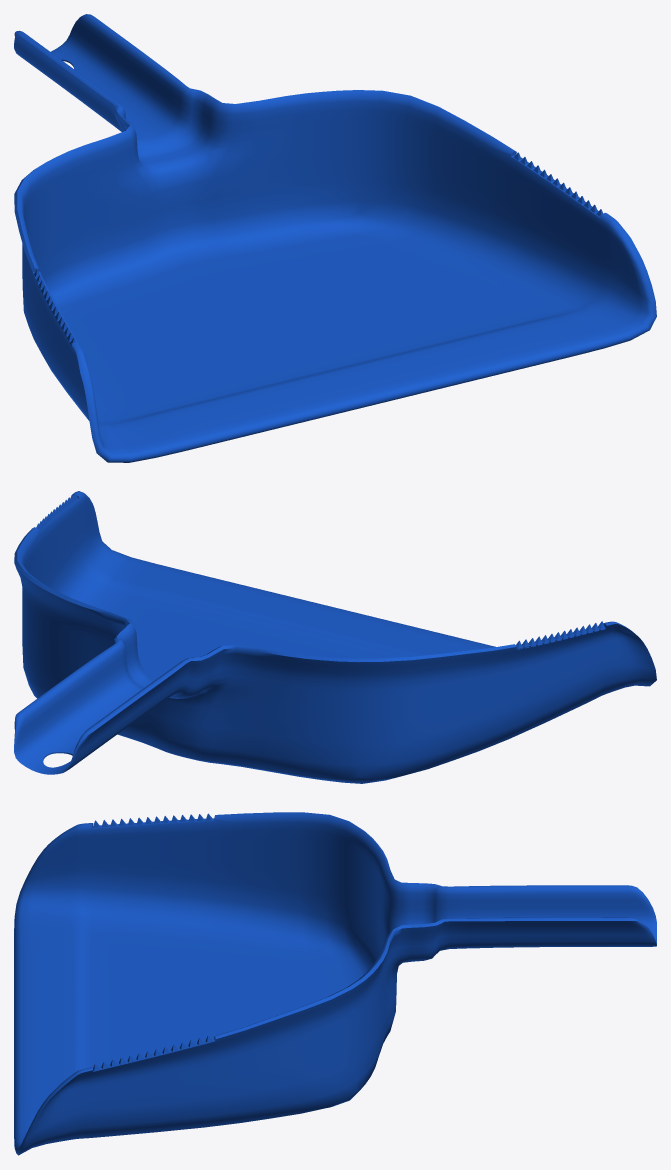
The model's file is dustpan.obj.
The picture shows the model from 3 angles, top to bottom: view 1: azimuth 30°, elevation 25°; view 2: azimuth 150°, elevation 25°; view 3: azimuth 270°, elevation 25°; orthographic projection. The views are drawn at different scales.
Parts seen in each view (by area): view 1: Plane.001_Material.001_0, Plane.003_Material_0; view 2: Plane.001_Material.001_0, Plane.003_Material_0; view 3: Plane.001_Material.001_0, Plane.003_Material_0.
Boxes of the visible parts, box(x1,y1,x2,y2) form: Plane.001_Material.001_0: box(14, 14, 656, 462); Plane.003_Material_0: box(33, 152, 603, 346); Plane.001_Material.001_0: box(14, 491, 656, 783); Plane.003_Material_0: box(36, 493, 605, 649); Plane.001_Material.001_0: box(14, 812, 656, 1155); Plane.003_Material_0: box(92, 813, 212, 1070).
Bounding box in the file's own units: 0.2268 × 0.0548 × 0.237.
